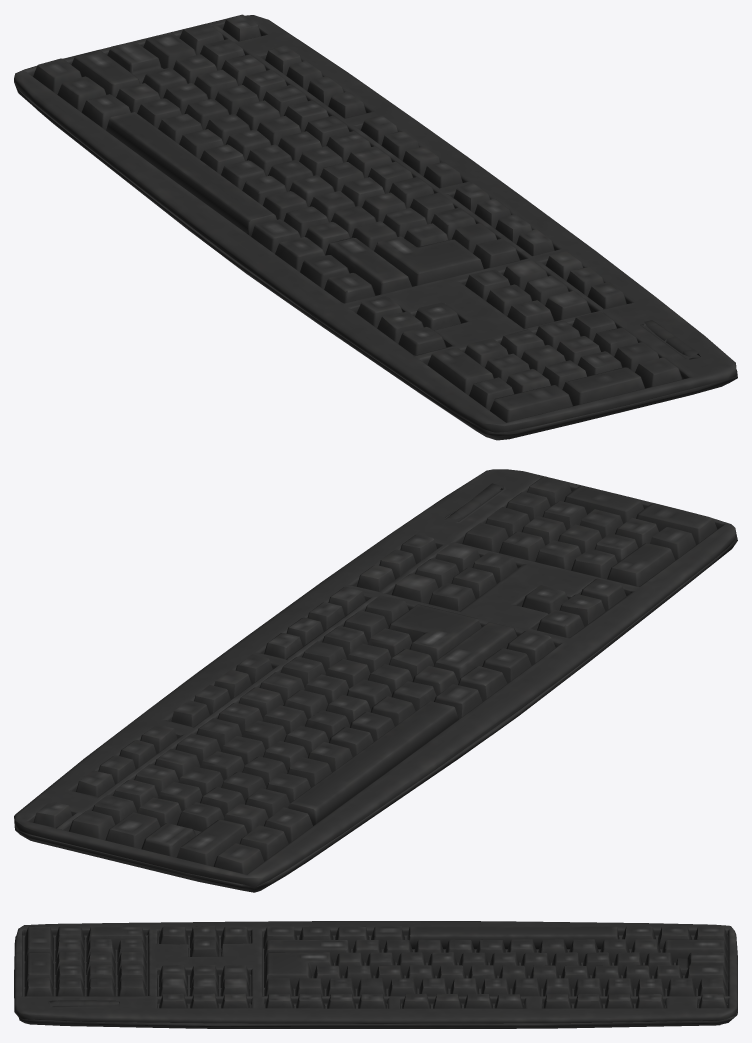
The model's file is SM_Computer_Keyboard02.fbx.
The picture shows the model from 3 angles, top to bottom: view 1: azimuth 30°, elevation 25°; view 2: azimuth 150°, elevation 25°; view 3: azimuth 270°, elevation 25°; orthographic projection. The views are drawn at different scales.
Parts seen in each view (by area): view 1: SM_Computer_Keyboard02_LOD0; view 2: SM_Computer_Keyboard02_LOD0; view 3: SM_Computer_Keyboard02_LOD0.
Boxes of the visible parts, x1,y1,x2,y2 form: SM_Computer_Keyboard02_LOD0: (14, 14, 737, 440); SM_Computer_Keyboard02_LOD0: (14, 469, 737, 892); SM_Computer_Keyboard02_LOD0: (14, 921, 737, 1028).
Bounding box in the file's own units: 19.14 × 58.27 × 1.98.
